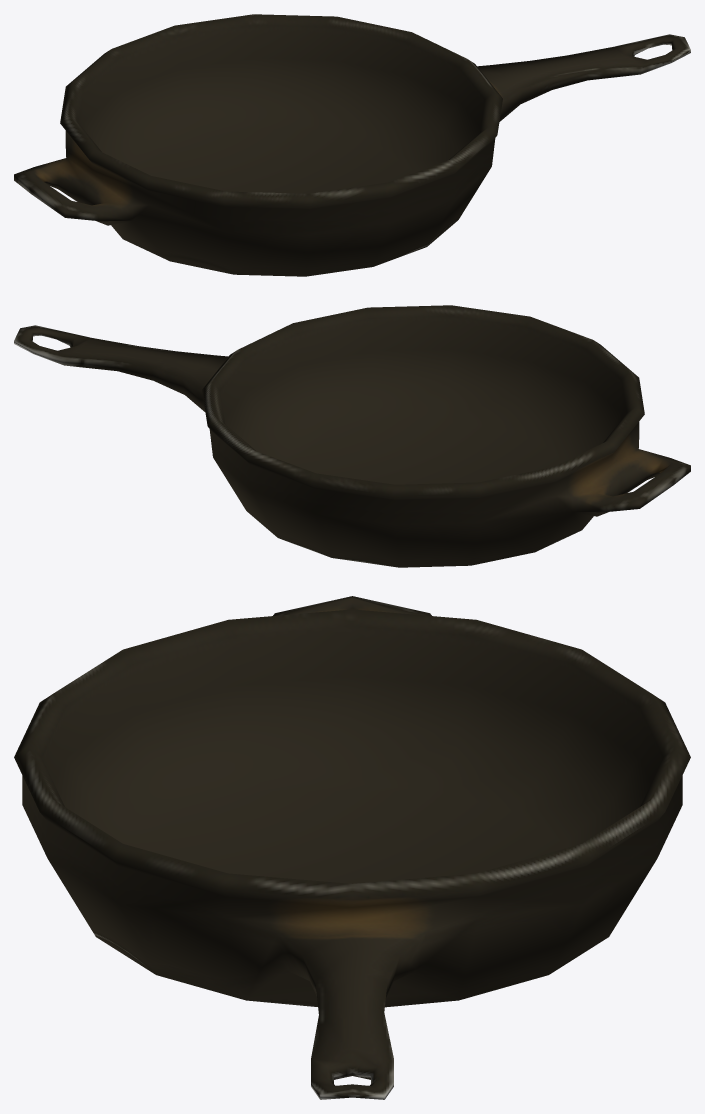
File: Pan_C.fbx
3 views of the same model, one above another, from view 1: azimuth 30°, elevation 25°; view 2: azimuth 150°, elevation 25°; view 3: azimuth 270°, elevation 25° (orthographic). The views are drawn at different scales.
Parts seen in each view (by area): view 1: U_Pan_C; view 2: U_Pan_C; view 3: U_Pan_C.
Boxes of the visible parts, x1,y1,x2,y2 form: U_Pan_C: (14, 14, 690, 276); U_Pan_C: (14, 305, 690, 567); U_Pan_C: (14, 596, 690, 1099).
Bounding box in the file's own units: 93.36 × 13.6 × 55.24.
1 material, 1 textured.
